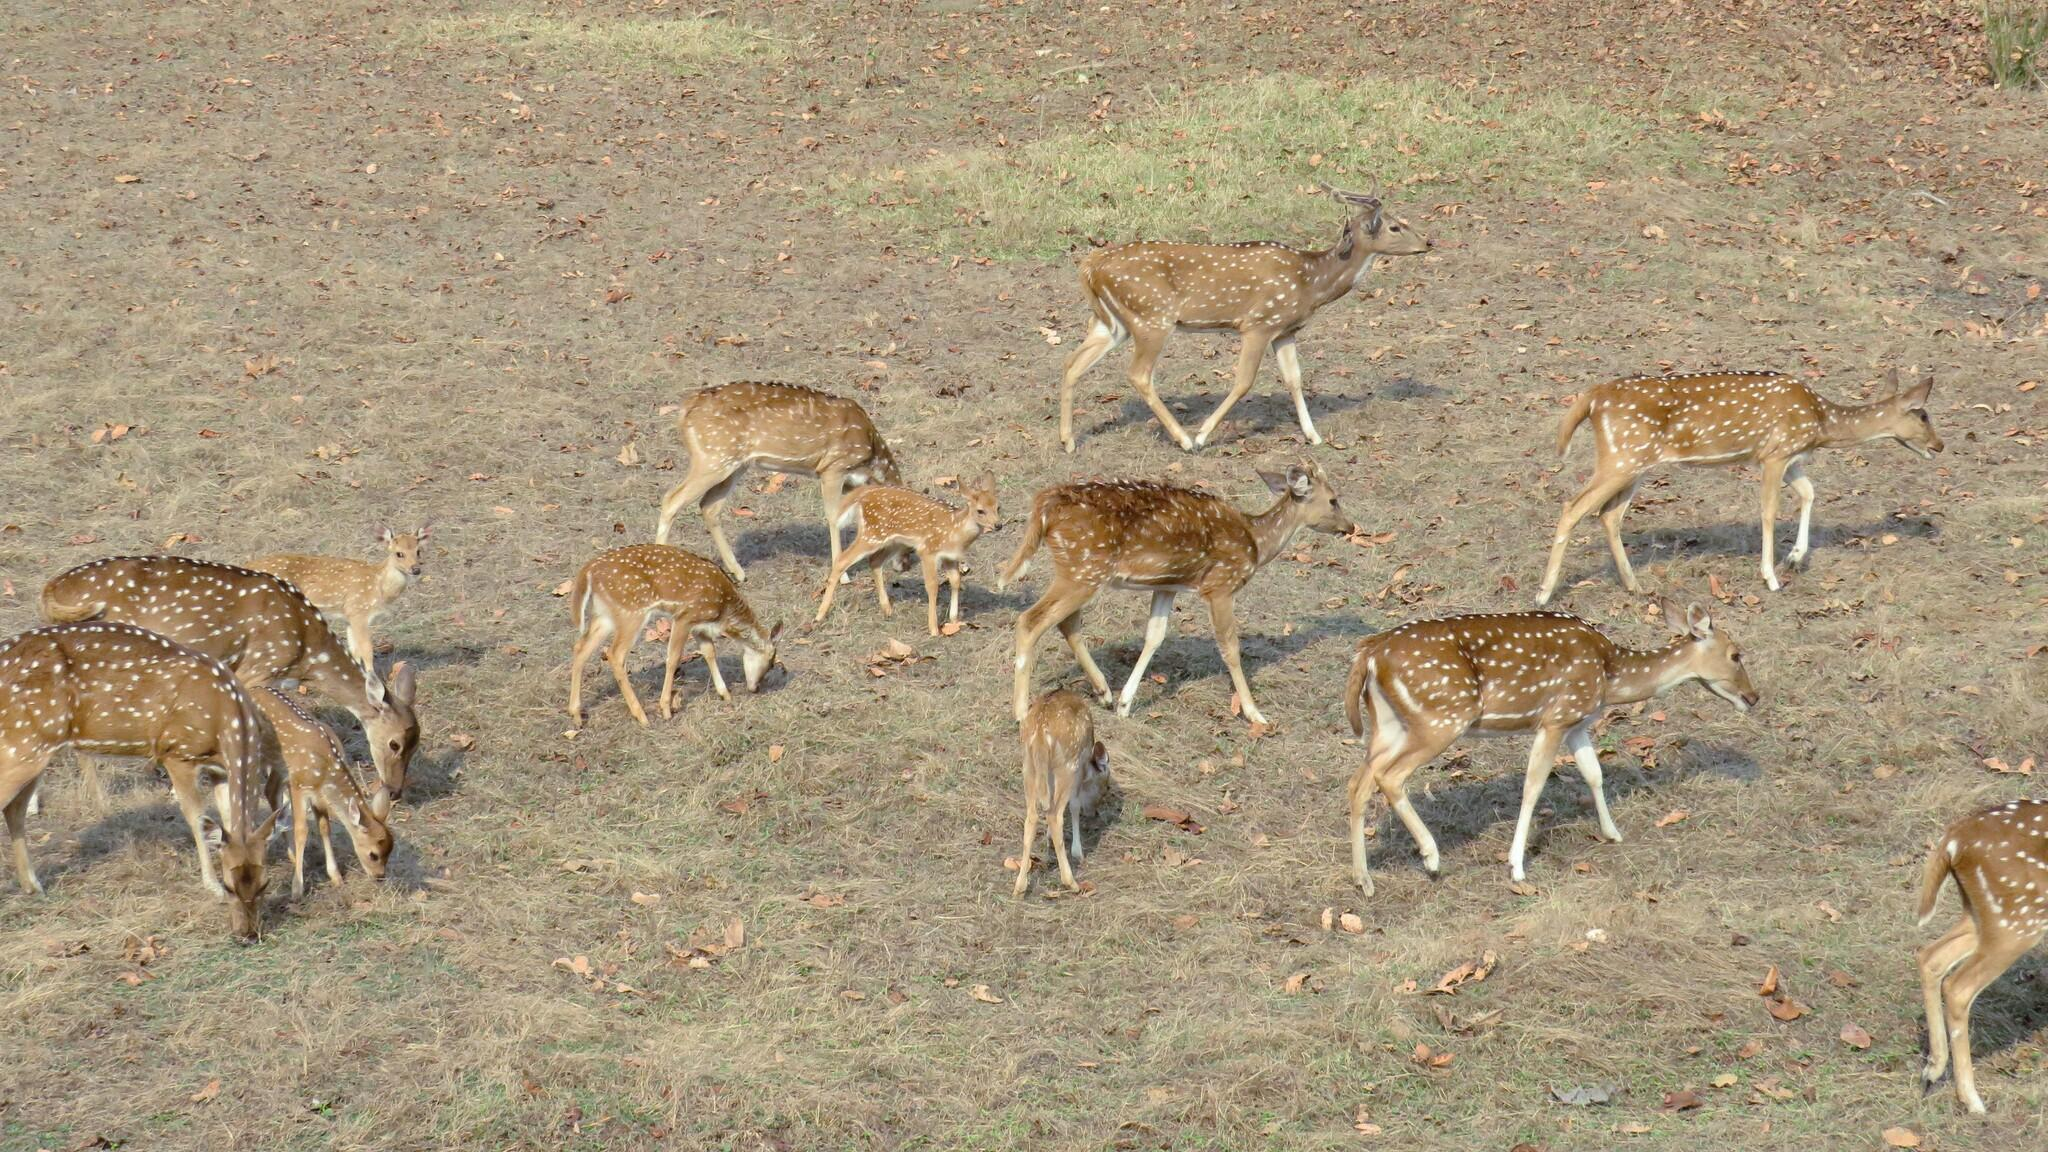Deer: (1345, 601, 1757, 895), (1059, 187, 1429, 450), (999, 463, 1357, 731), (1536, 371, 1943, 605), (41, 556, 419, 798), (0, 620, 279, 938), (654, 381, 902, 578), (568, 544, 782, 727), (248, 684, 392, 897), (816, 471, 1003, 634), (249, 523, 428, 665), (1014, 691, 1108, 897)
